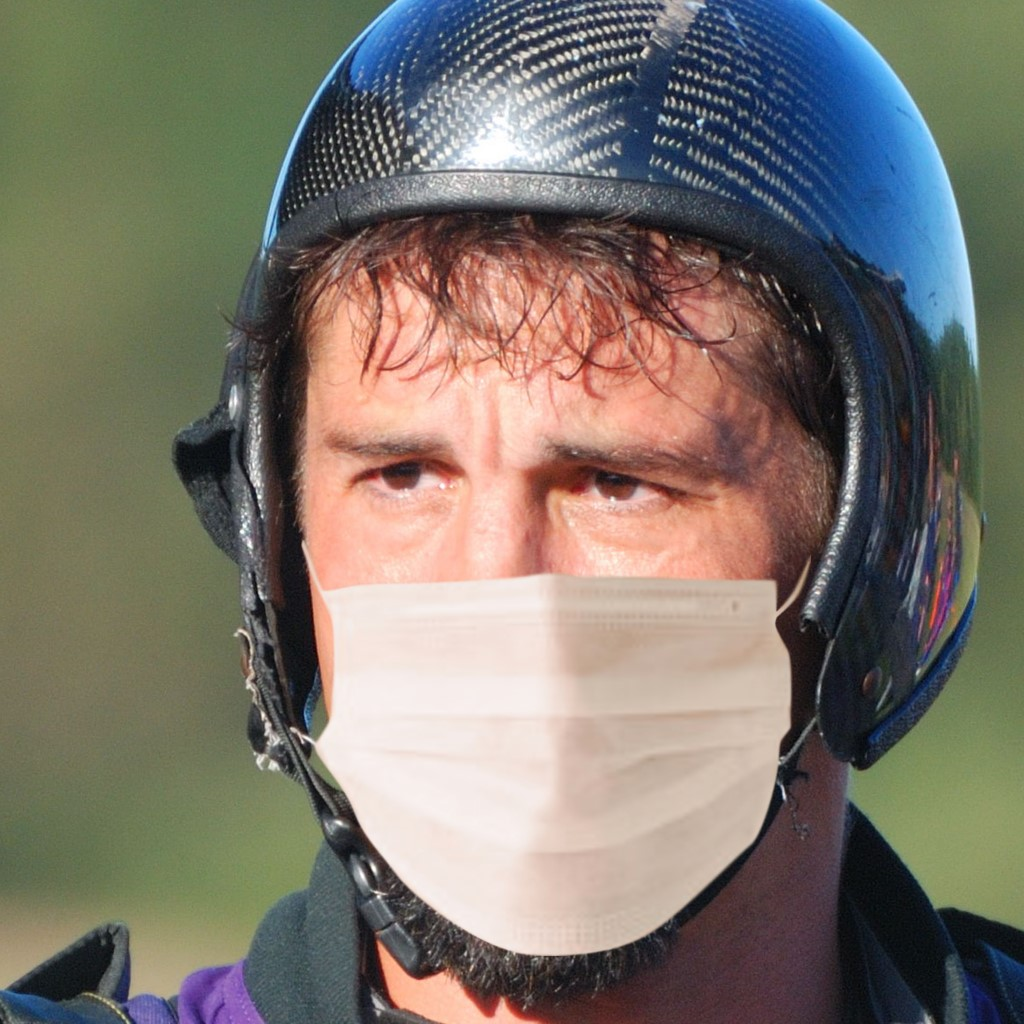con_mascara: (268, 193, 870, 985)
